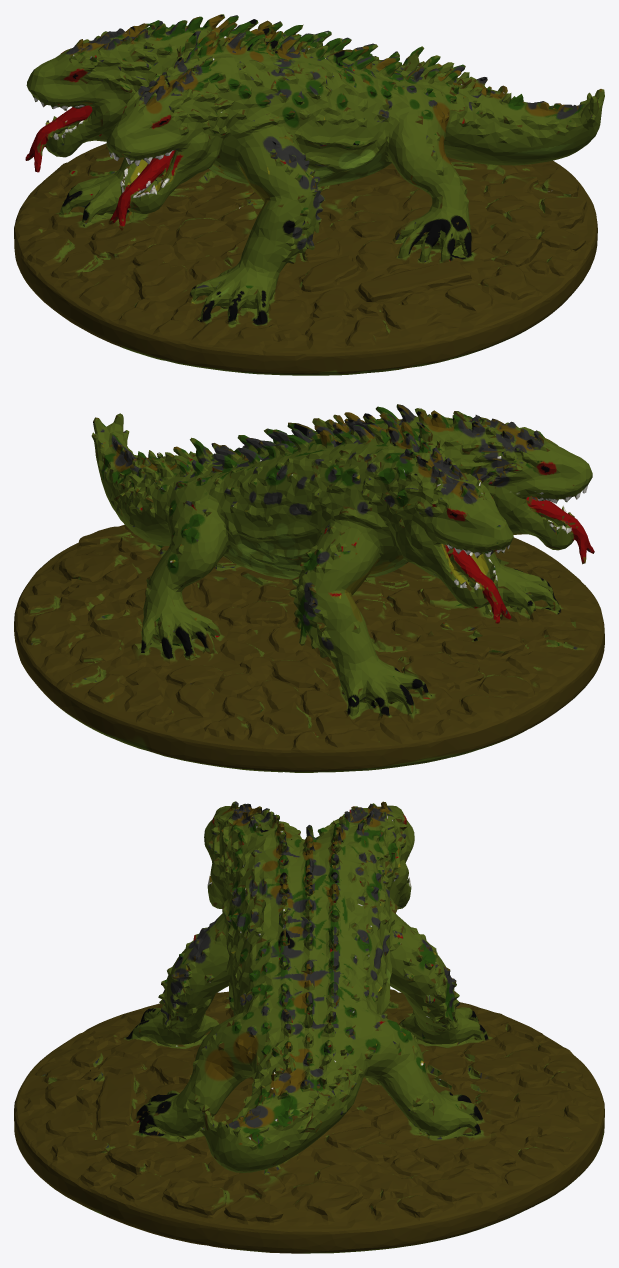
The model's file is lagarto_carniceiro.glb.
3 renders of one model, top to bottom at view 1: azimuth 30°, elevation 25°; view 2: azimuth 150°, elevation 25°; view 3: azimuth 270°, elevation 25°, orthographic.
Visible parts, largest first — view 1: tmpzza2b4ui.ply; view 2: tmpzza2b4ui.ply; view 3: tmpzza2b4ui.ply.
Boxes of the visible parts, x1,y1,x2,y2 form: tmpzza2b4ui.ply: (14,14,604,375); tmpzza2b4ui.ply: (14,404,604,772); tmpzza2b4ui.ply: (14,801,604,1253).
Size of the model in its own units: 1.96 by 0.9471 by 1.96.
1 material, 1 textured.
